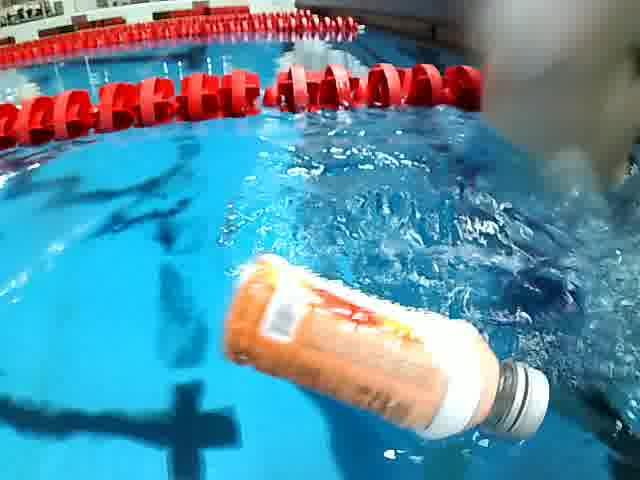Bottle: (218, 227, 578, 446)
